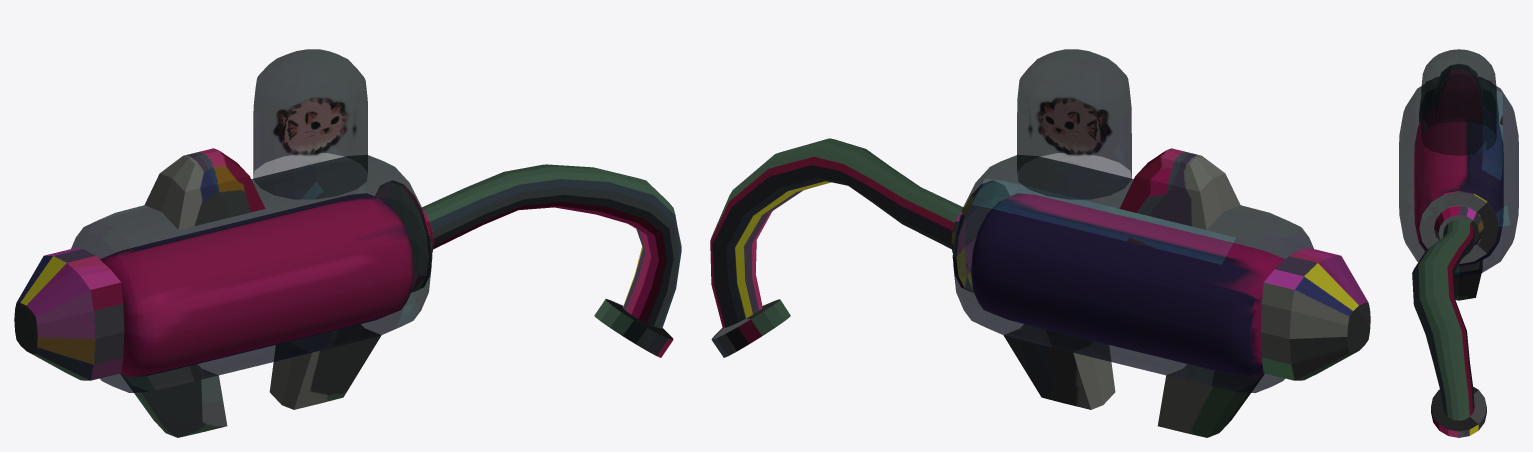
File: ship_enrichment_new.glb
The picture shows the model from 3 angles, left to right: view 1: azimuth 30°, elevation 25°; view 2: azimuth 150°, elevation 25°; view 3: azimuth 270°, elevation 25°; orthographic projection. The views are drawn at different scales.
Visible parts, largest first — view 1: ship_enrichment; view 2: ship_enrichment; view 3: ship_enrichment.
Part boxes in pixels (x1,y1,x2,y2): ship_enrichment: (14, 49, 681, 437); ship_enrichment: (710, 49, 1370, 437); ship_enrichment: (1399, 49, 1518, 437).
Bounding box in the file's own units: 2.48 × 1.49 × 0.5685.
1 material, 1 textured.
